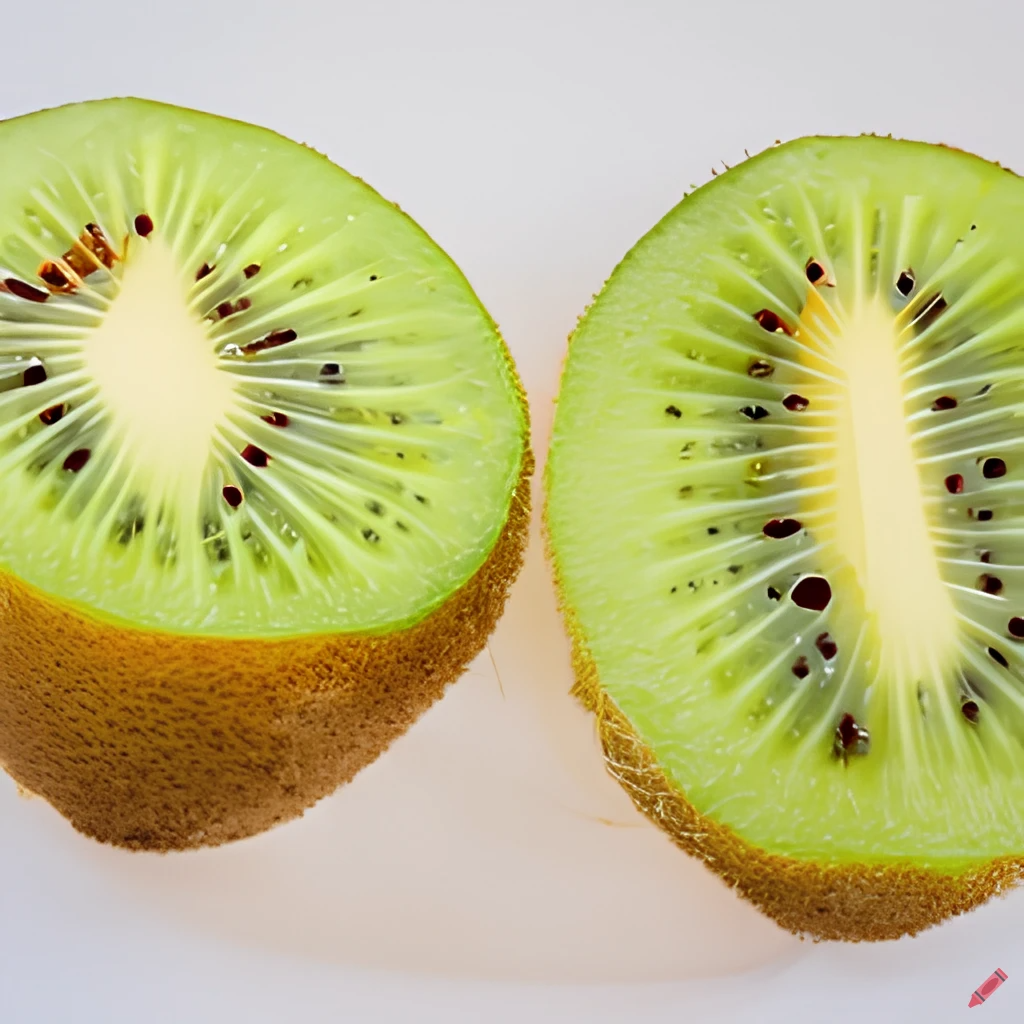Kiwi: (0, 93, 524, 878), (537, 128, 1024, 954)
